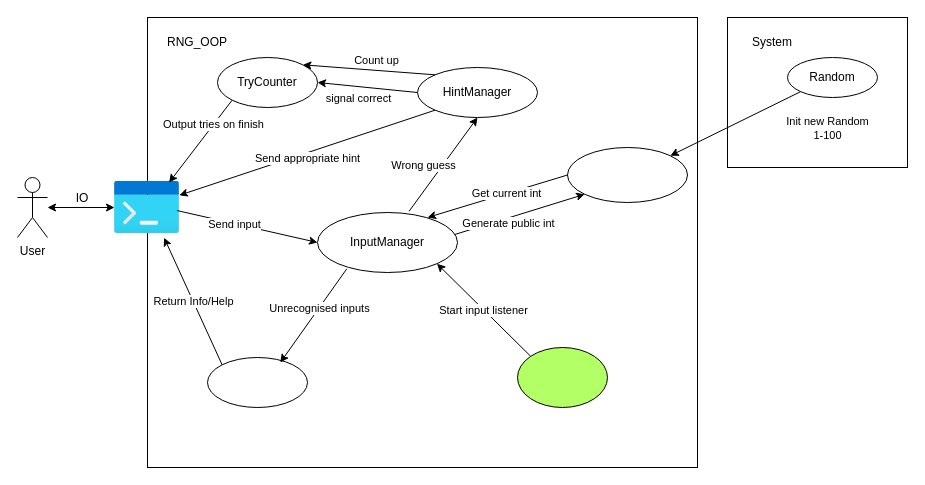
Some shapes in this 925 by 485 pixel diagram are drawn without their labels. Each missing label, with the centre of its shape:
"Entrypoint Starter" goes at point 562,377.
"ErrorHandler" goes at point 257,382.
"NumberGenerator" goes at point 627,174.
